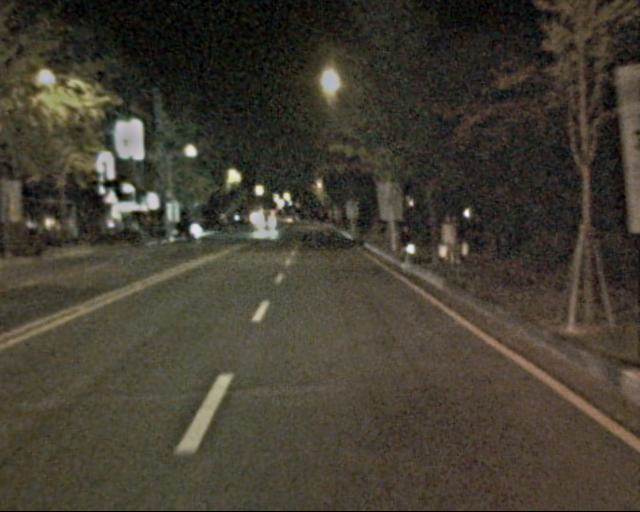person: (438, 214, 461, 267), (447, 216, 469, 266), (395, 226, 416, 272)
